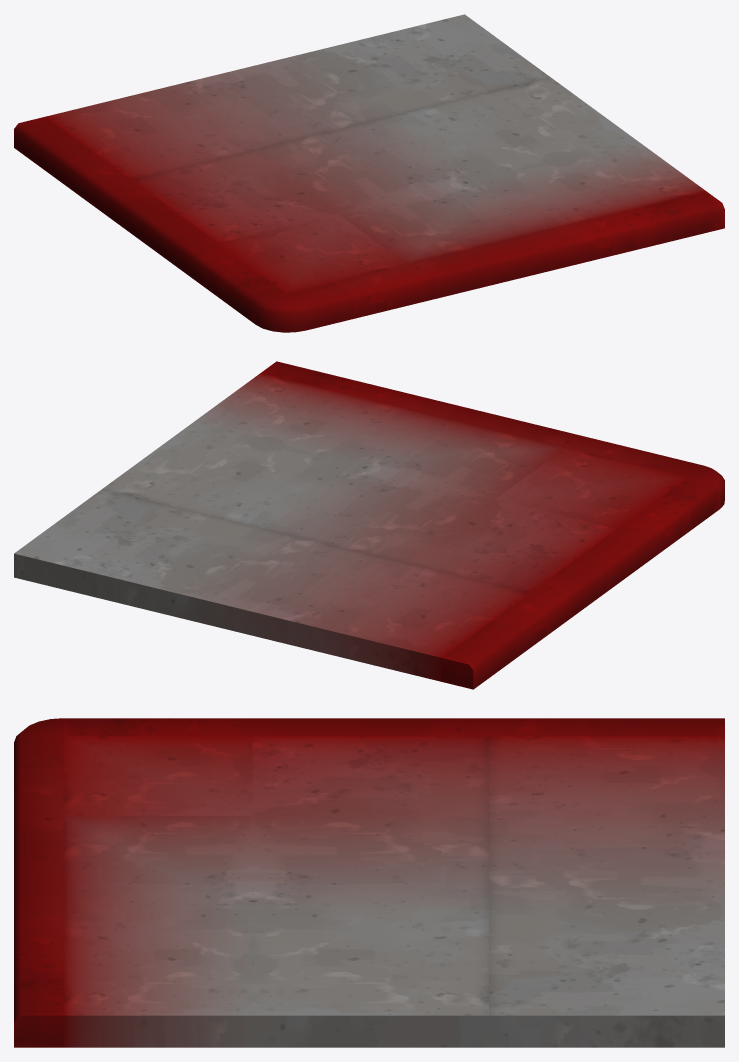
The model's file is Sidewalk_Corner_Flat_3m.gltf.
3 renders of one model, top to bottom at view 1: azimuth 30°, elevation 25°; view 2: azimuth 150°, elevation 25°; view 3: azimuth 270°, elevation 25°, orthographic. The views are drawn at different scales.
Visible parts, largest first — view 1: Sidewalk_Corner_Flat_3m; view 2: Sidewalk_Corner_Flat_3m; view 3: Sidewalk_Corner_Flat_3m.
Part boxes in pixels (bbox=[...]): Sidewalk_Corner_Flat_3m: bbox=[14, 14, 724, 332]; Sidewalk_Corner_Flat_3m: bbox=[14, 361, 724, 689]; Sidewalk_Corner_Flat_3m: bbox=[14, 718, 724, 1047].
Size of the model in its own units: 3.01 by 0.15 by 3.01.
1 material, 1 textured.
